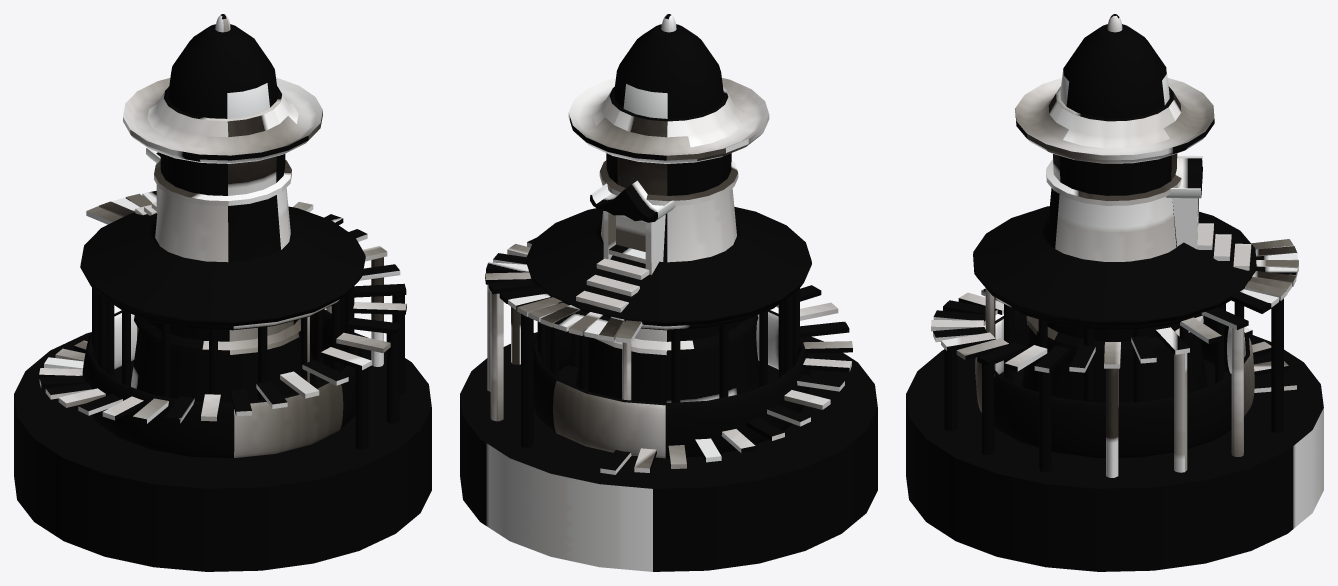
File: TestHouse.fbx
3 renders of one model, left to right at view 1: azimuth 30°, elevation 25°; view 2: azimuth 150°, elevation 25°; view 3: azimuth 270°, elevation 25°, orthographic.
Parts seen in each view (by area): view 1: LotusHouse_01; view 2: LotusHouse_01; view 3: LotusHouse_01.
Part boxes in pixels (x1,y1,x2,y2): LotusHouse_01: (14,14,431,571); LotusHouse_01: (460,14,877,571); LotusHouse_01: (906,14,1323,571).
Size of the model in its own units: 989 by 1227 by 989.
